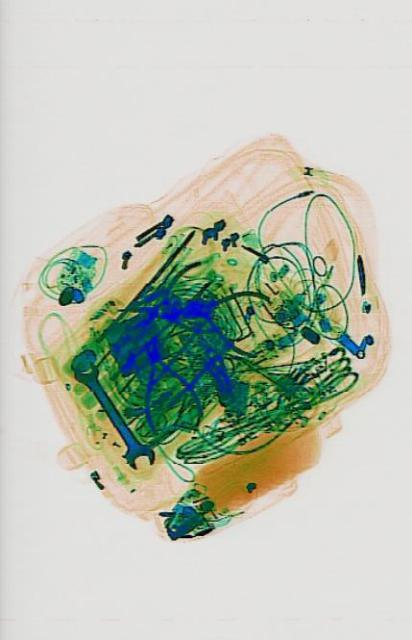Pliers: (124, 324, 202, 444), (178, 275, 266, 359), (138, 250, 212, 336)
Wrench: (67, 346, 156, 480)
